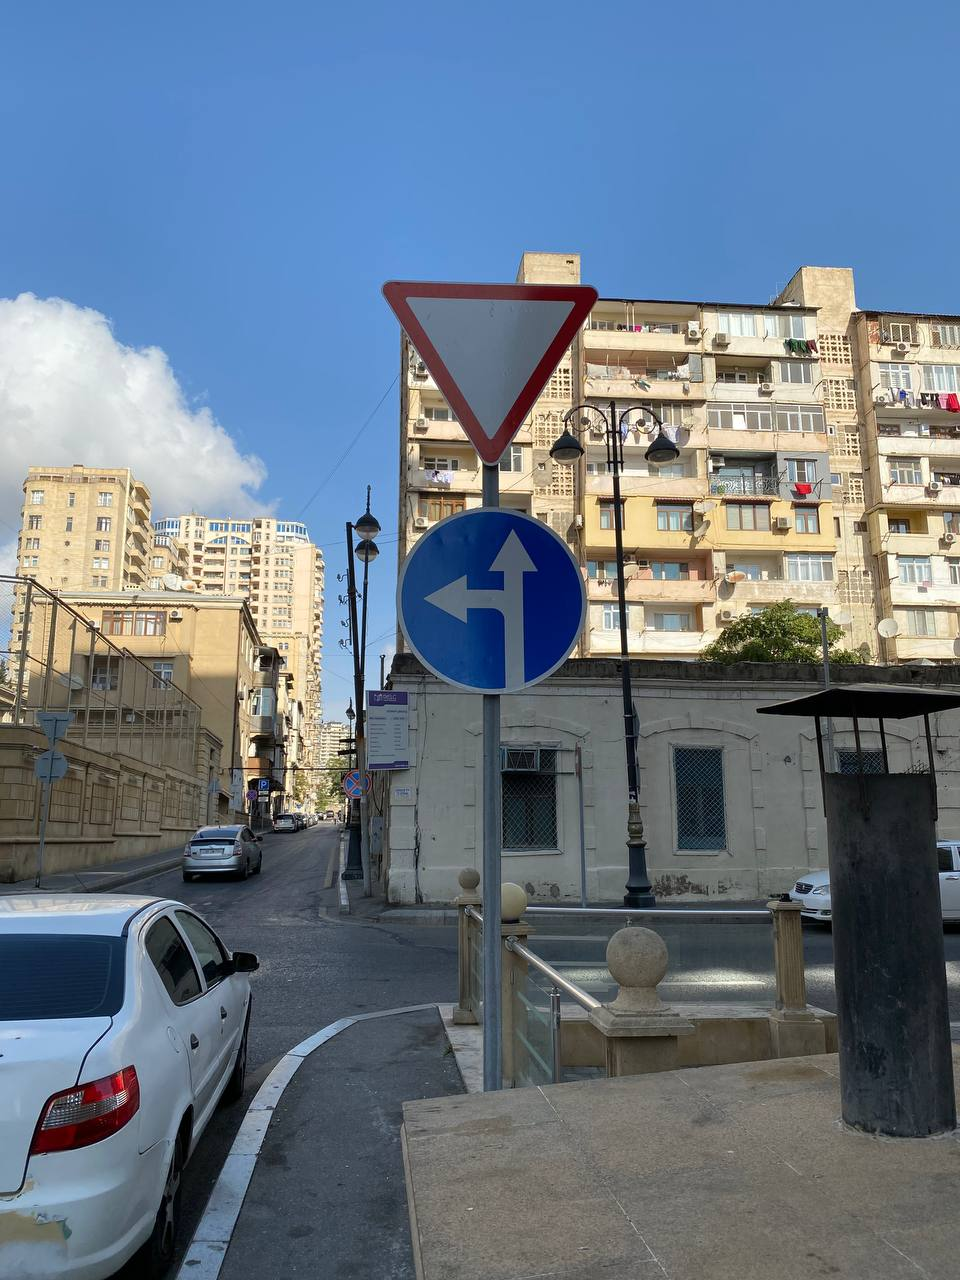Give Way: (381, 279, 597, 466)
Straight or Left: (396, 507, 588, 696)
